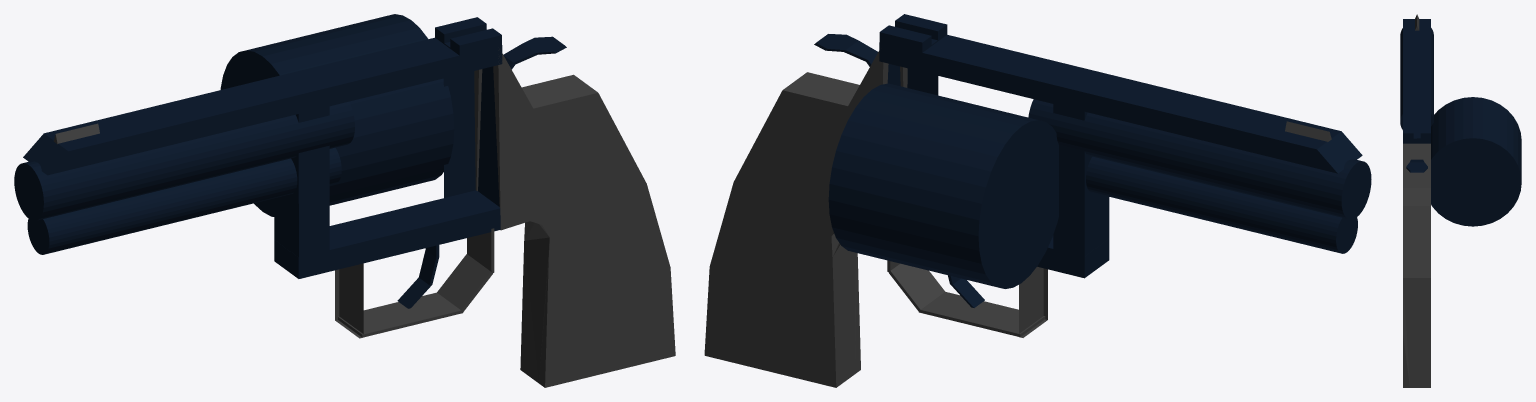
Rendered from revolver0031.obj.
The picture shows the model from 3 angles, left to right: view 1: azimuth 30°, elevation 25°; view 2: azimuth 150°, elevation 25°; view 3: azimuth 270°, elevation 25°; orthographic projection. The views are drawn at different scales.
Visible parts, largest first — view 1: Cube, upperFrame, bulletCylinder, barrel, cleaningRod, Cube.001, Cube.002, triggerGuard.002, Cube.003, triggerGuard.001, trigger, trigger2 (+1 smaller); view 2: Cube, bulletCylinder, upperFrame, barrel, cleaningRod, Cube.002, triggerGuard.002, Cube.003, Cube.001, triggerGuard.001, trigger2, trigger; view 3: bulletCylinder, Cube, upperFrame, barrel, Cube.003, trigger2.
Boxes of the visible parts, box(x1,y1,x2,y2) form: Cube: box(335, 49, 675, 387); upperFrame: box(23, 37, 502, 206); bulletCylinder: box(220, 14, 454, 216); barrel: box(14, 101, 354, 220); cleaningRod: box(27, 147, 341, 254); Cube.001: box(274, 190, 500, 278); Cube.002: box(274, 102, 329, 265); triggerGuard.002: box(338, 292, 463, 337); Cube.003: box(435, 17, 501, 56); triggerGuard.001: box(437, 254, 492, 311); trigger: box(397, 245, 439, 308); trigger2: box(503, 36, 566, 69); Cube: box(704, 51, 1047, 387); bulletCylinder: box(828, 83, 1058, 288); upperFrame: box(879, 34, 1362, 173); barrel: box(1028, 99, 1371, 219); cleaningRod: box(1086, 156, 1357, 253); Cube.002: box(1053, 104, 1109, 264); triggerGuard.002: box(918, 292, 1045, 337); Cube.003: box(879, 14, 947, 54); Cube.001: box(1037, 235, 1109, 278); triggerGuard.001: box(888, 263, 945, 311); trigger2: box(814, 34, 877, 66); trigger: box(948, 275, 984, 307); bulletCylinder: box(1431, 97, 1521, 226); Cube: box(1403, 143, 1430, 387); upperFrame: box(1403, 19, 1430, 143); barrel: box(1400, 28, 1433, 129); Cube.003: box(1403, 121, 1430, 138); trigger2: box(1406, 159, 1427, 172).
Bounding box in the file's own units: 2.98 × 1.63 × 0.8699.
